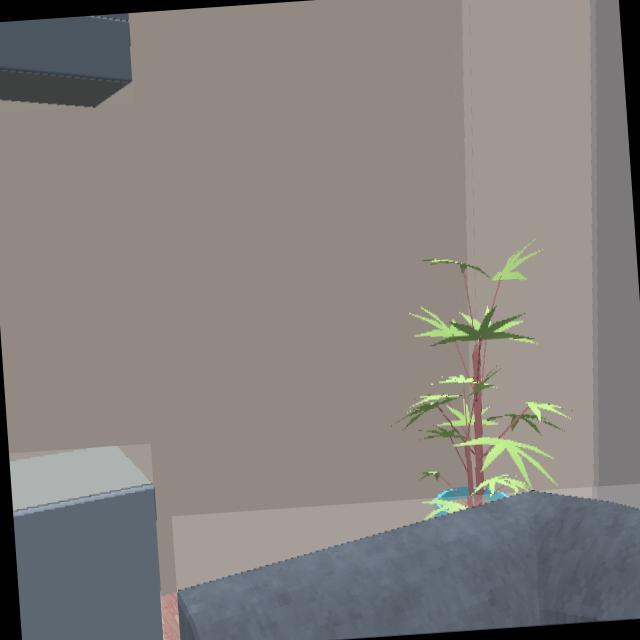cabinet: (10, 446, 162, 640), (0, 13, 132, 106)
sofa: (177, 491, 640, 640)
